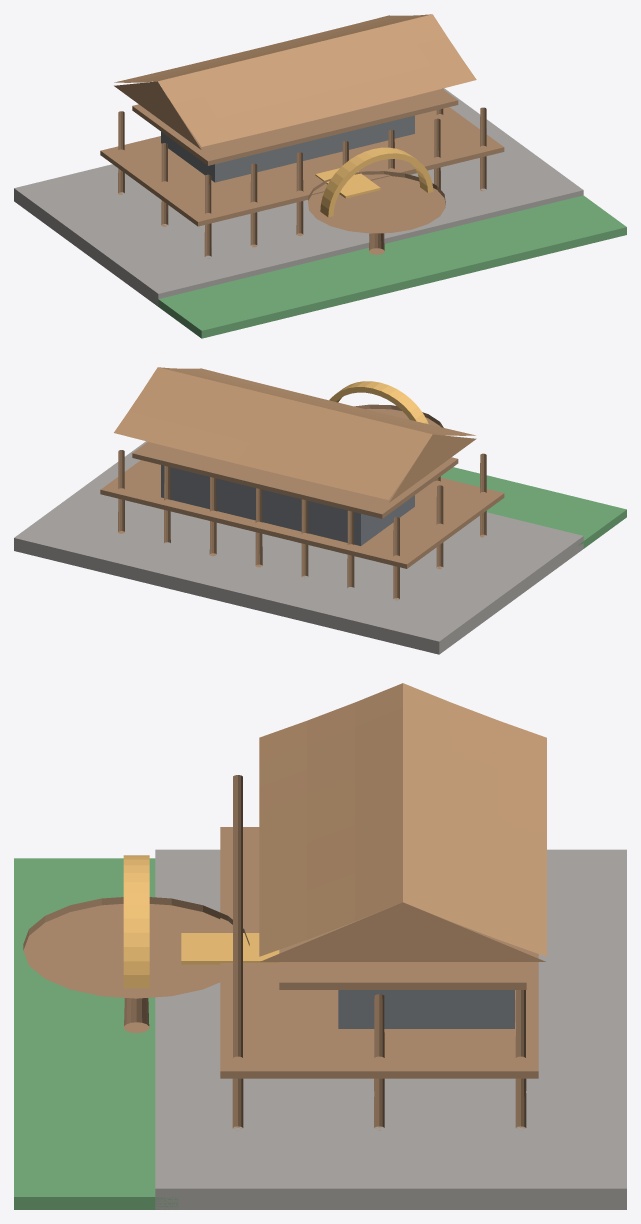
Rendered from lm_76_me_linh_coffee_garden_ta_nung_viewing_deck.glb.
3 renders of one model, top to bottom at view 1: azimuth 30°, elevation 25°; view 2: azimuth 150°, elevation 25°; view 3: azimuth 270°, elevation 25°, orthographic. The views are drawn at different scales.
Parts seen in each view (by area): view 1: lm_76_me_linh_coffee_garden_ta_nung_viewing_deck; view 2: lm_76_me_linh_coffee_garden_ta_nung_viewing_deck; view 3: lm_76_me_linh_coffee_garden_ta_nung_viewing_deck.
Part boxes in pixels (x1=…): lm_76_me_linh_coffee_garden_ta_nung_viewing_deck: x1=14, y1=14, x2=626, y2=338; lm_76_me_linh_coffee_garden_ta_nung_viewing_deck: x1=14, y1=367, x2=626, y2=654; lm_76_me_linh_coffee_garden_ta_nung_viewing_deck: x1=14, y1=683, x2=626, y2=1209.
Size of the model in its own units: 34 by 11.6 by 26.
